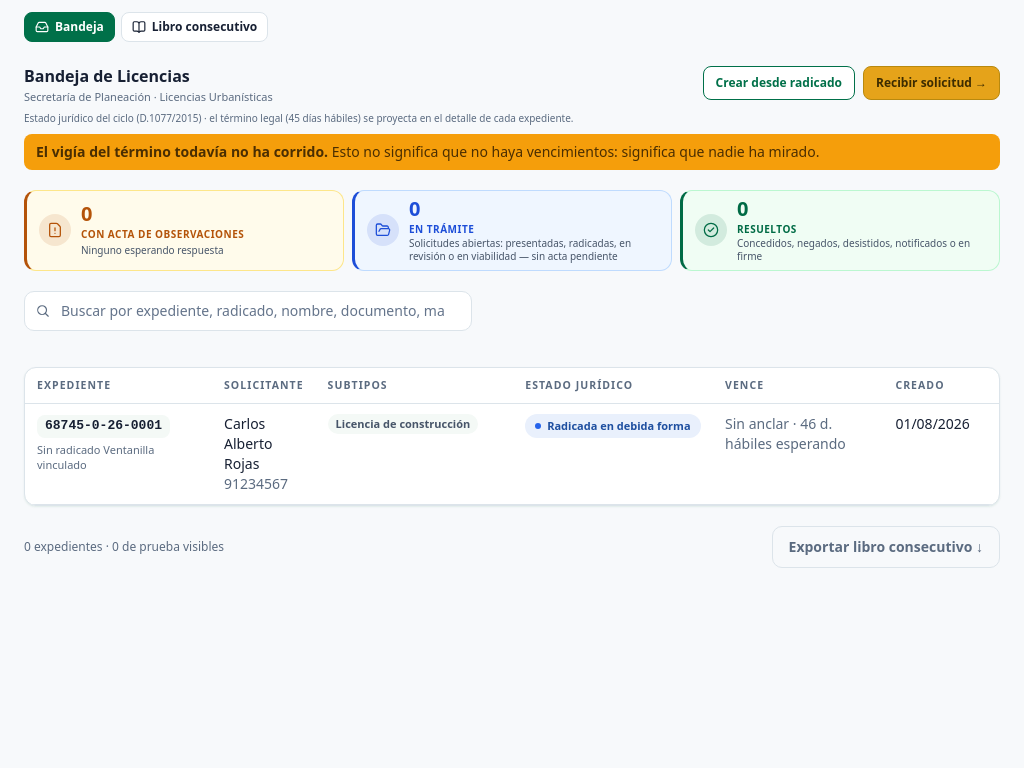
Test: VistaLicencias — Bloque B, Licencias embebida en el panel interno › sub-pestaña "Libro consecutivo" (Bloque C): monta el Libro Consecutivo real y oculta la bandeja
The width and height of the screenshot is (1024, 768).
Expected: the text "68745-0-26-0001" is shown, [37, 415, 170, 438]
Click the tab "Libro consecutivo" at (195, 27), box [121, 12, 268, 42]
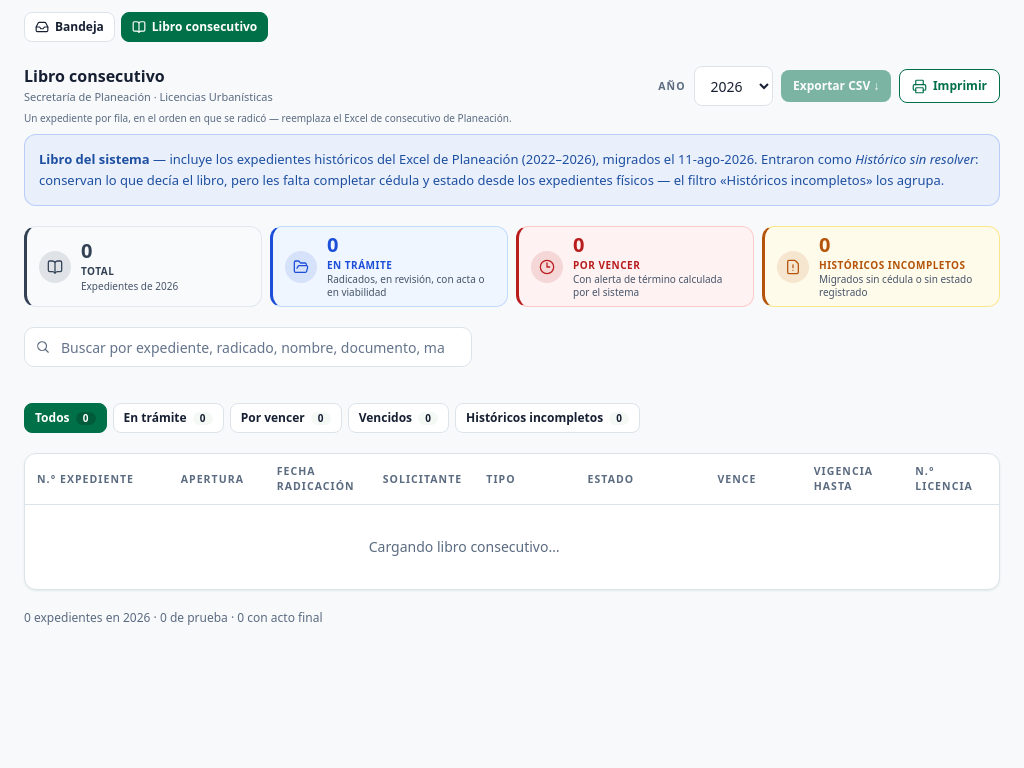
Now the heading "Libro consecutivo" is shown, box [24, 65, 165, 87]
Now the heading "Bandeja de Licencias" is gone
Select "2026" in the dropdown named "Año del libro consecutivo" at (733, 86), box [694, 66, 773, 106]
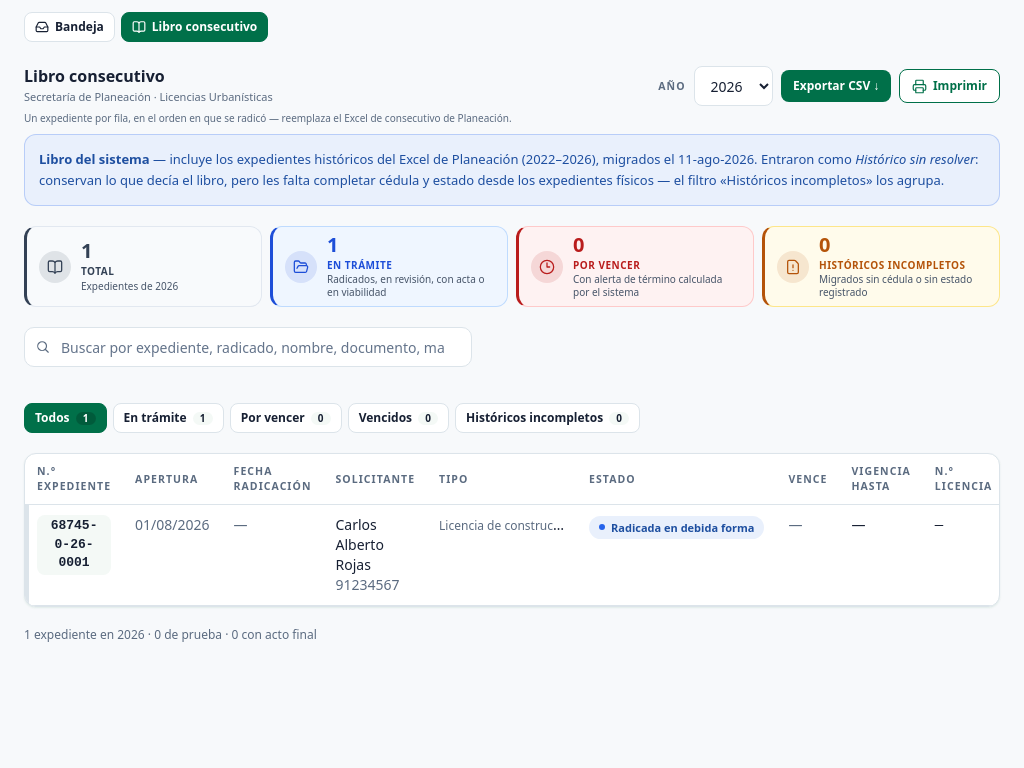
Now the text "68745-0-26-0001" is shown, box [37, 515, 111, 575]
